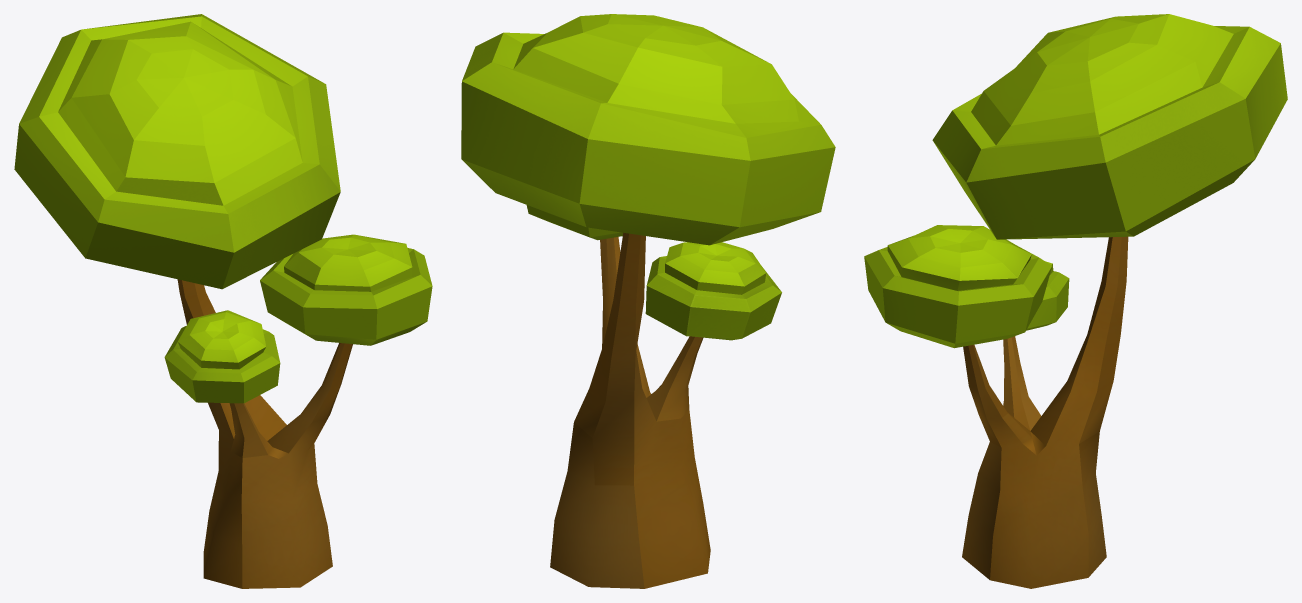
The model's file is tree2.fbx.
3 views of the same model, side by side, from view 1: azimuth 30°, elevation 25°; view 2: azimuth 150°, elevation 25°; view 3: azimuth 270°, elevation 25° (orthographic). The views are drawn at different scales.
Visible parts, largest first — view 1: pasted__pSphere6; view 2: pasted__pSphere6; view 3: pasted__pSphere6.
Part boxes in pixels (box(x1,y1,x2,y2)): pasted__pSphere6: box(14, 14, 432, 588); pasted__pSphere6: box(461, 14, 835, 588); pasted__pSphere6: box(864, 14, 1287, 588).
Bounding box in the file's own units: 2.53 × 4.02 × 3.05.
Materials: 1 (1 with a texture image).
